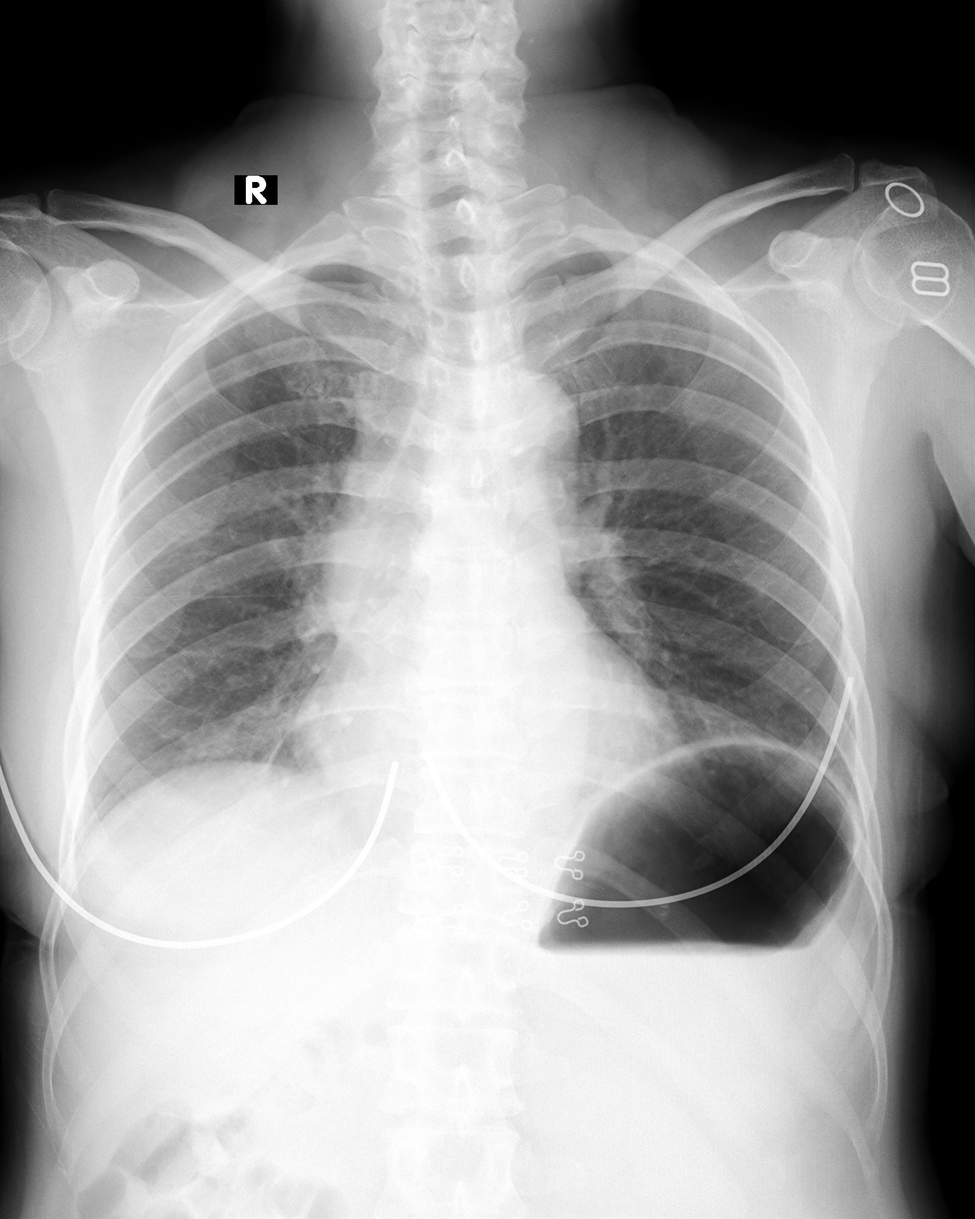Aortic enlargement: (432, 374, 585, 507)
